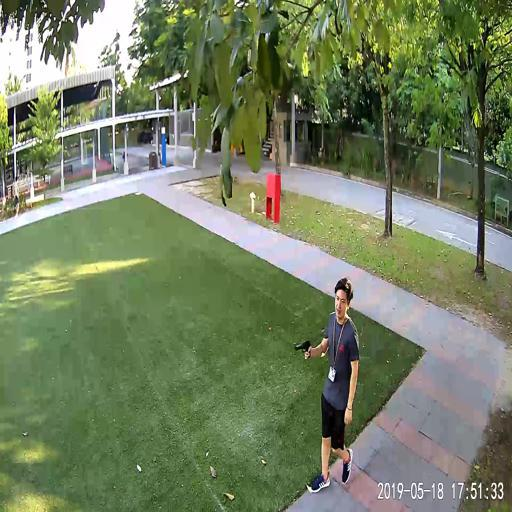Handgun: (292, 337, 310, 359)
